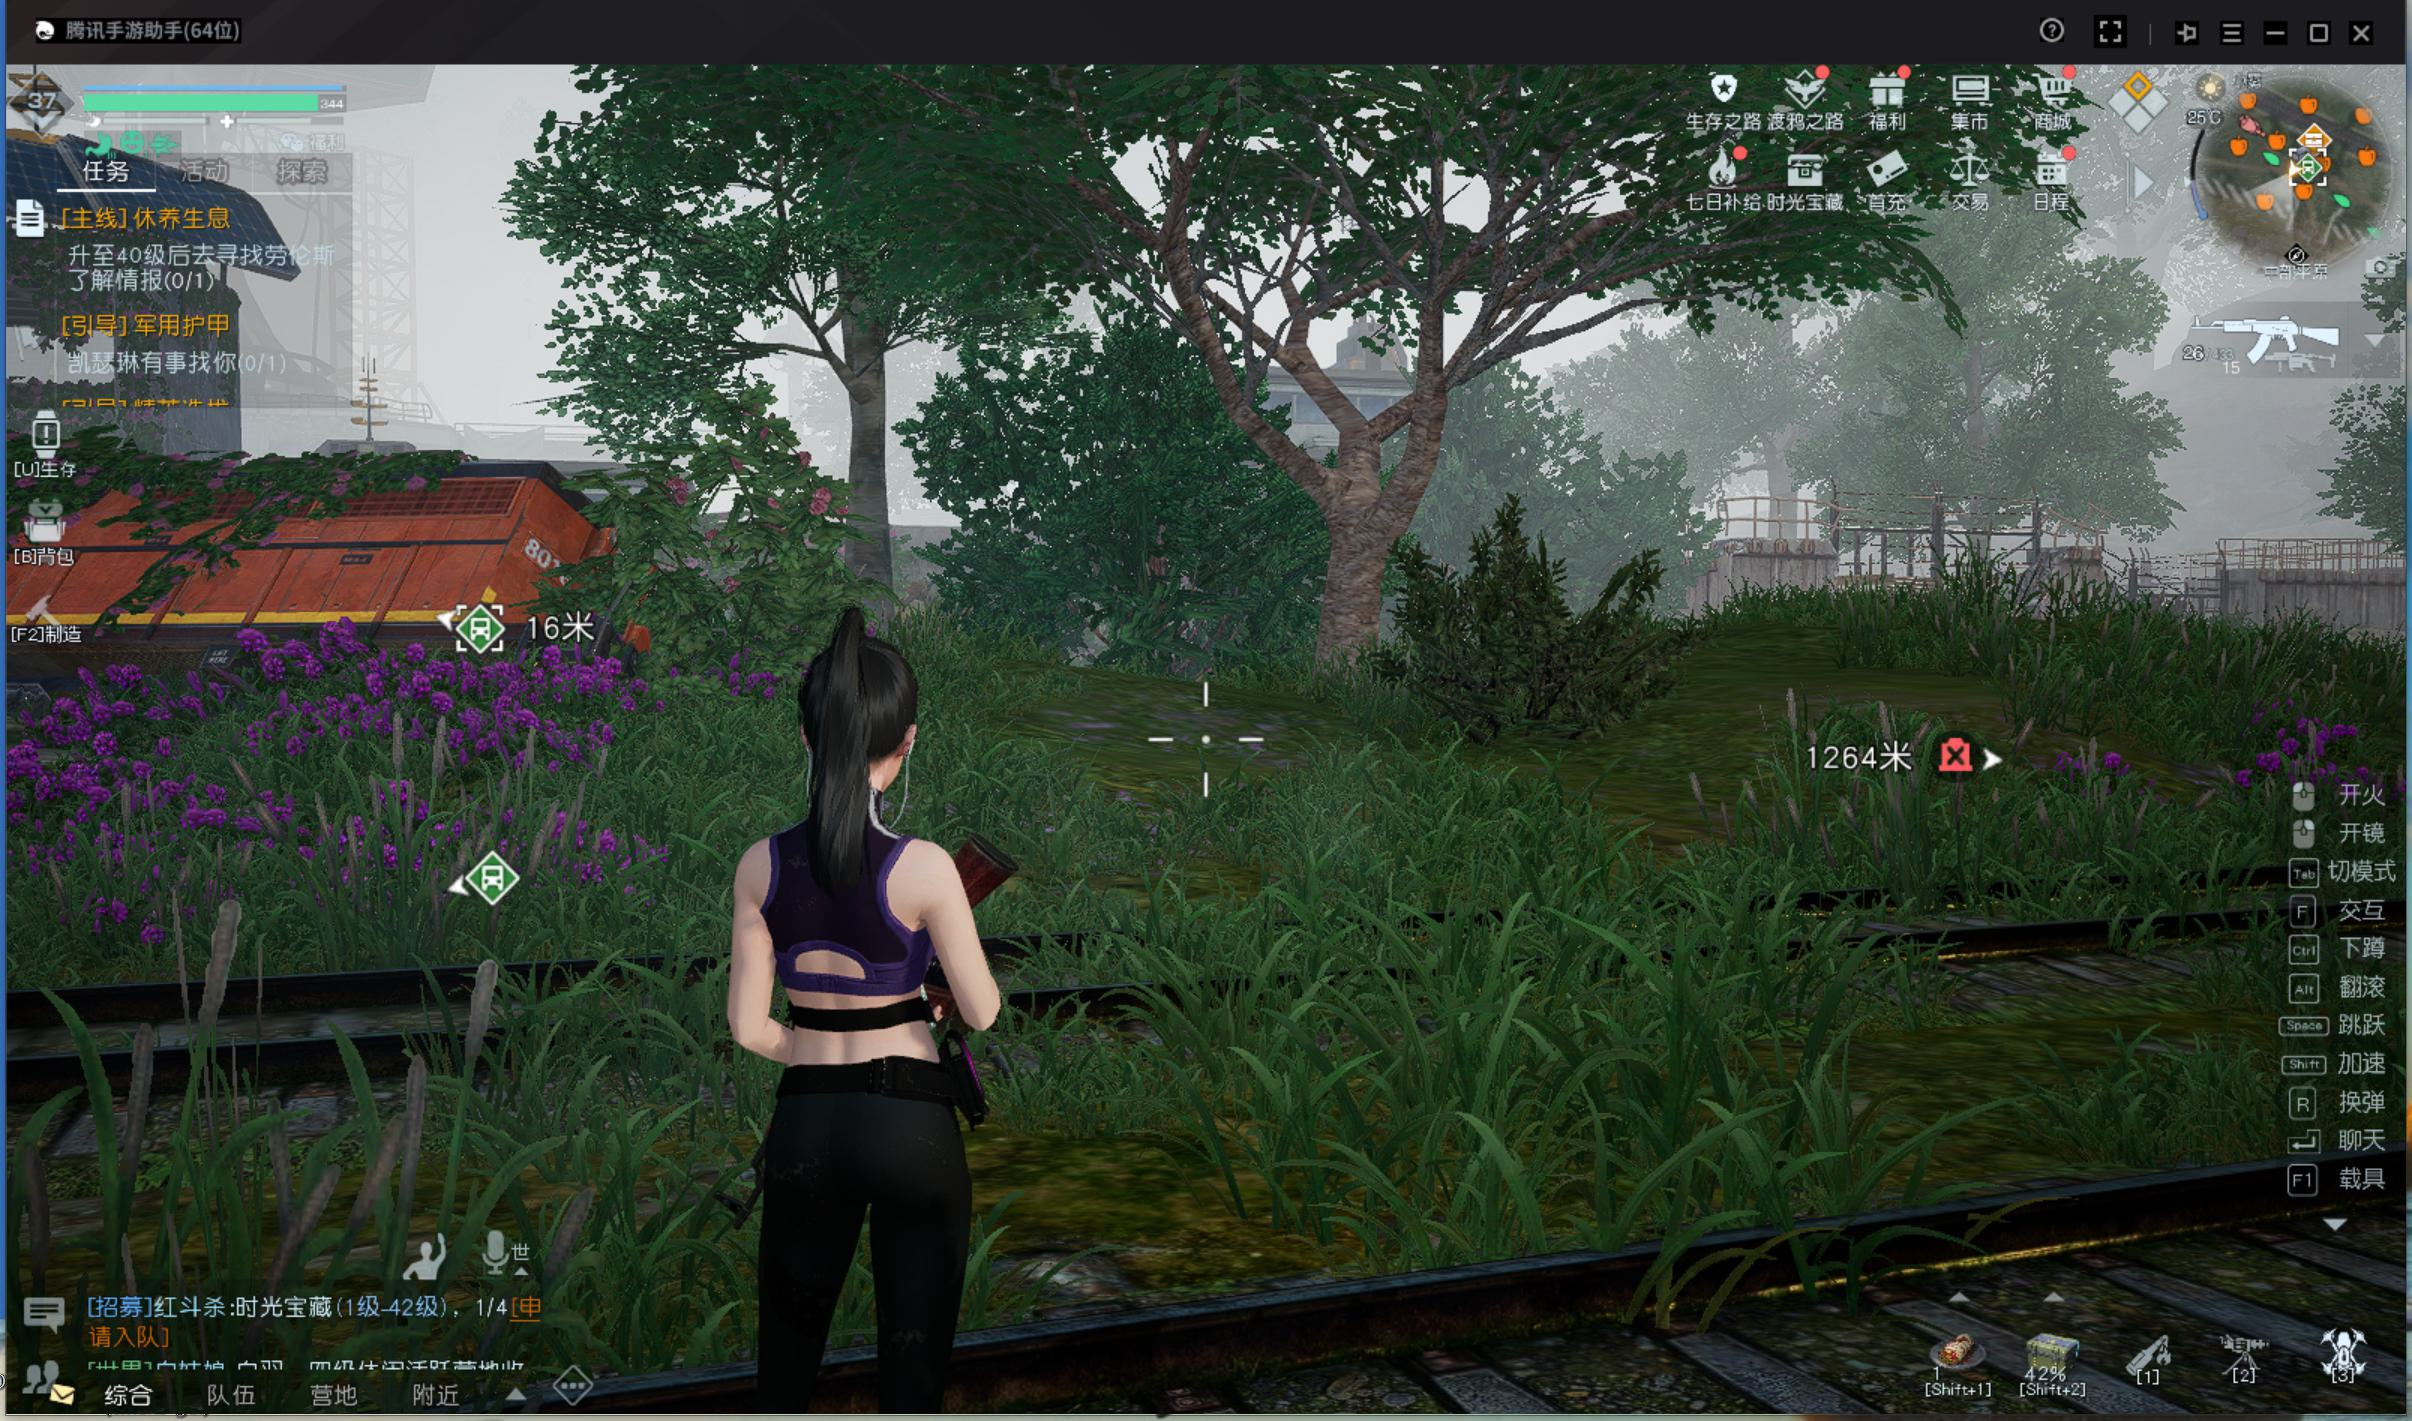tree: (1306, 399, 1409, 699), (824, 362, 903, 646)
